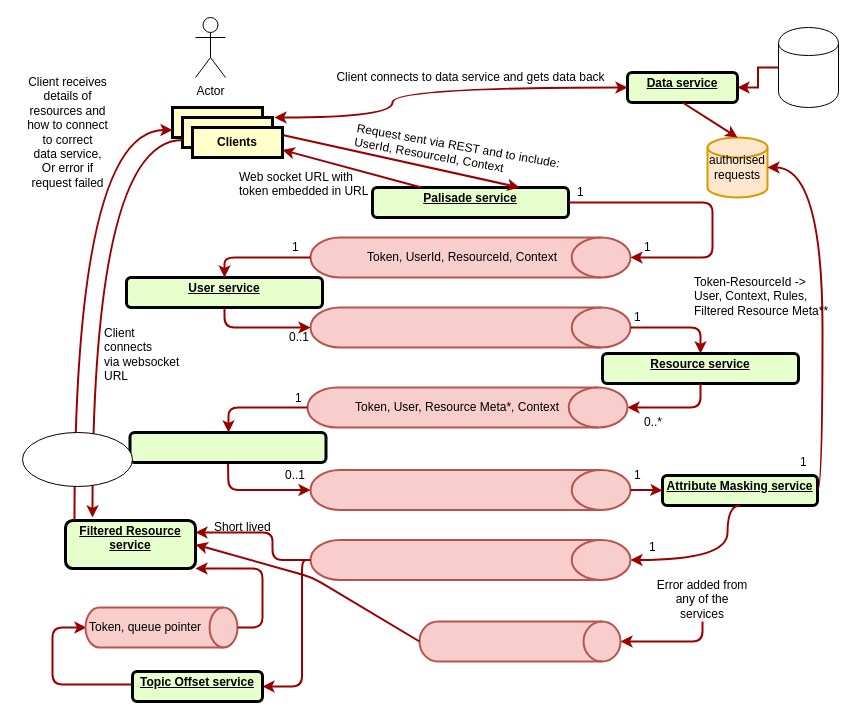
This 859x720 diagram has some shape labels left out. Each missing label, with the centre of its shape:
"Data" goes at (808,67).
"Load Balancer & Websocket token router" goes at (77,459).
"Policy service" goes at (227,447).
"Token, error message" goes at (519,641).
"Token, Masked Resource Meta***" goes at (470,559).
"Token, User, Filtered Resource Meta**, Context, Rules" goes at (470,489).
"Token, User, ResourceId, Context" goes at (470,327).
